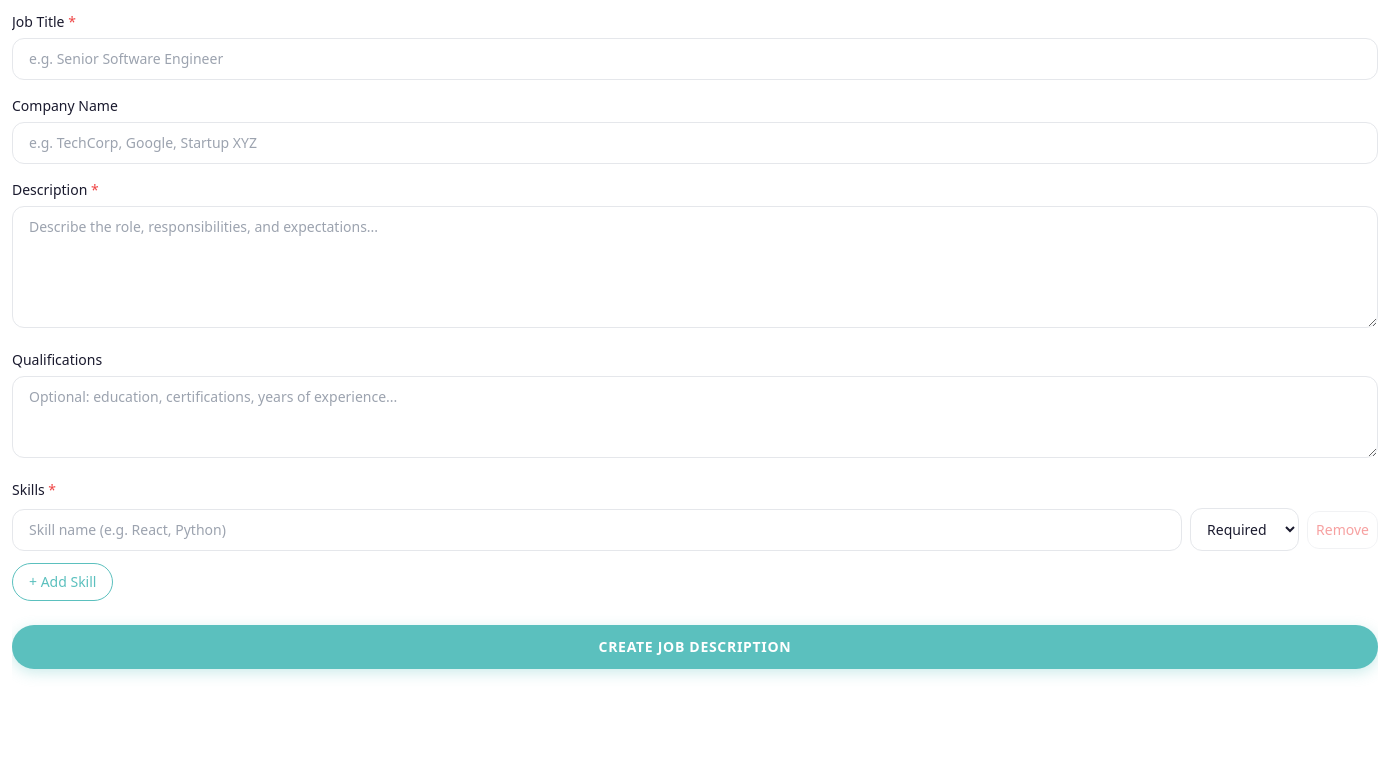
it: JobDescriptionForm › shows validation error when all skills are preferred (none required)
In the field labelled "Job Title *": (695, 59) top-left (12, 38), bottom-right (1378, 80), type "Software Engineer"
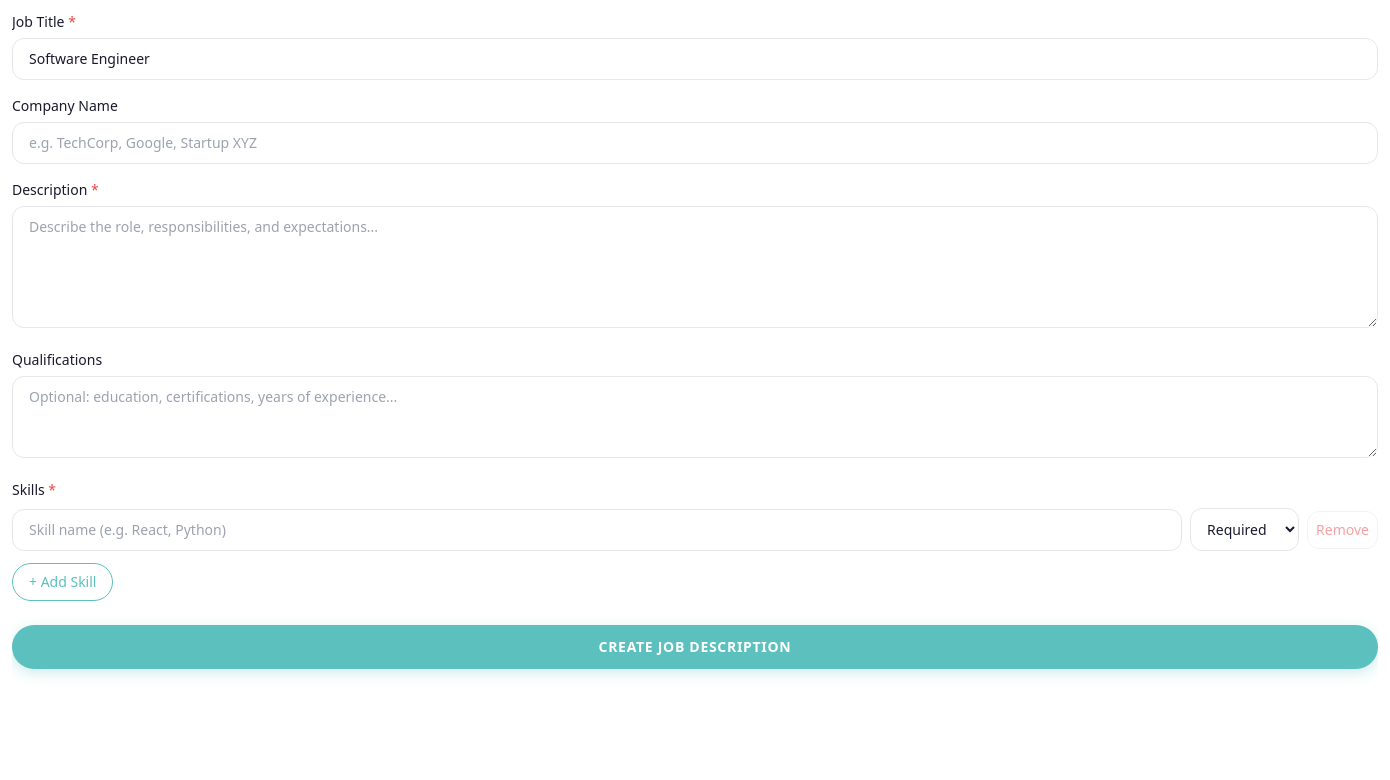
In the text box labelled "Description *": (695, 267) top-left (12, 206), bottom-right (1378, 328), type "Build things"
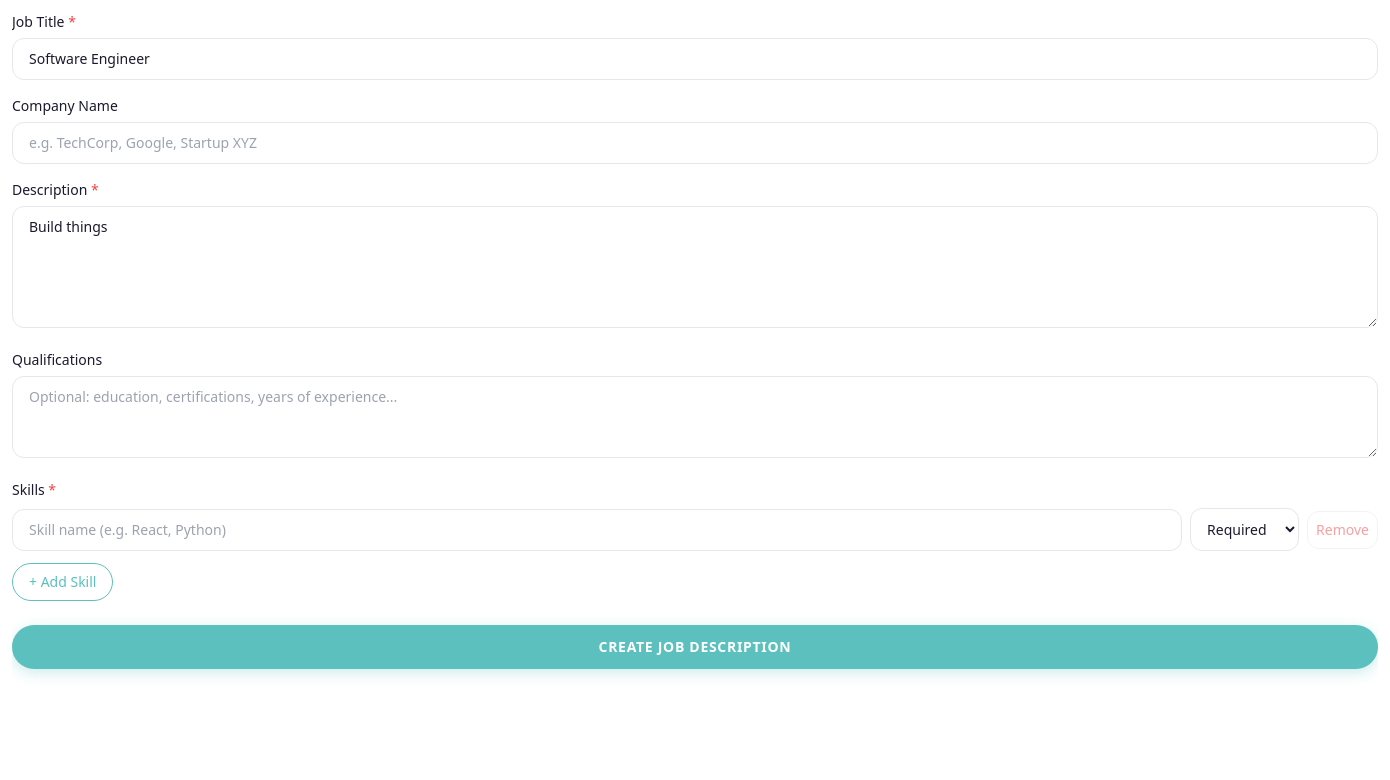
In the field named "Skill 1 name": (597, 530) top-left (12, 508), bottom-right (1182, 550), type "TypeScript"
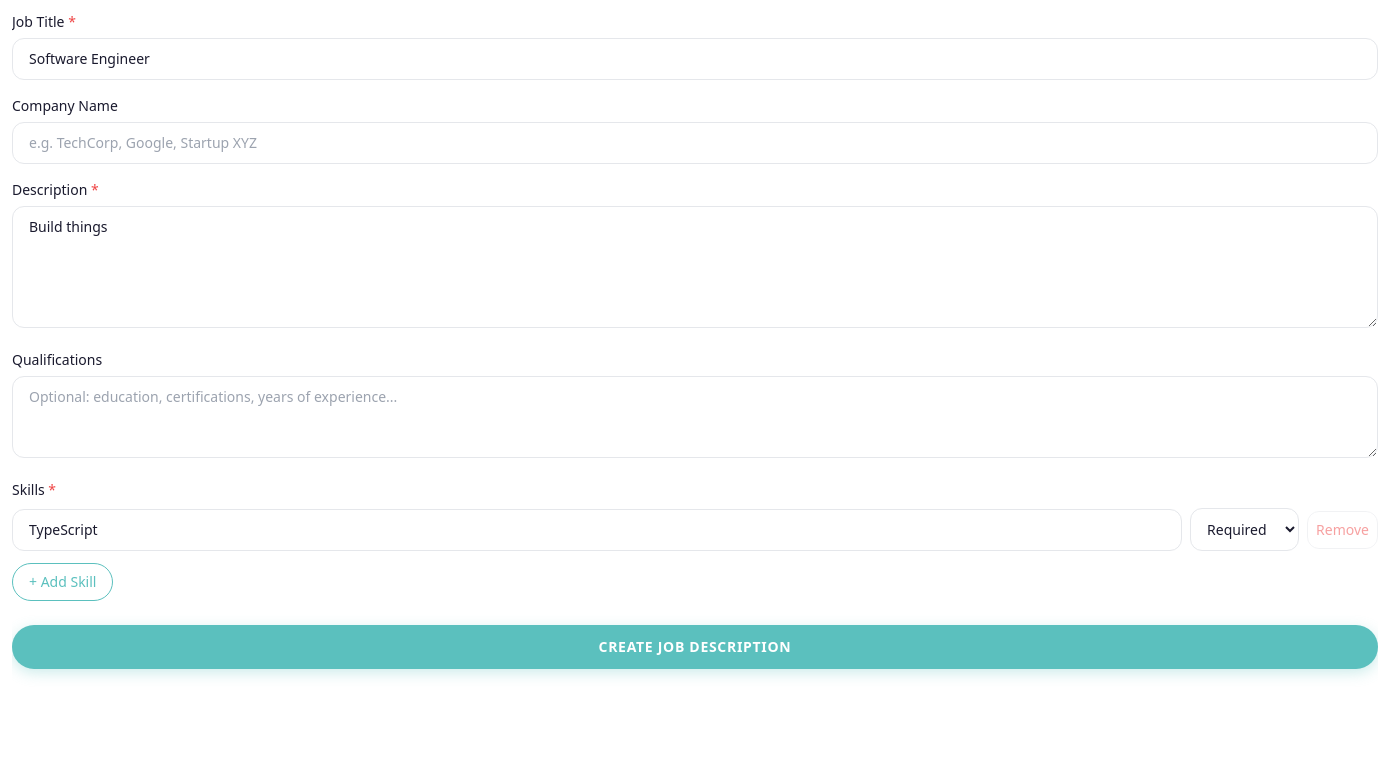
Select "Preferred" in the dropdown named "Skill 1 importance": (1245, 530) top-left (1190, 508), bottom-right (1299, 551)
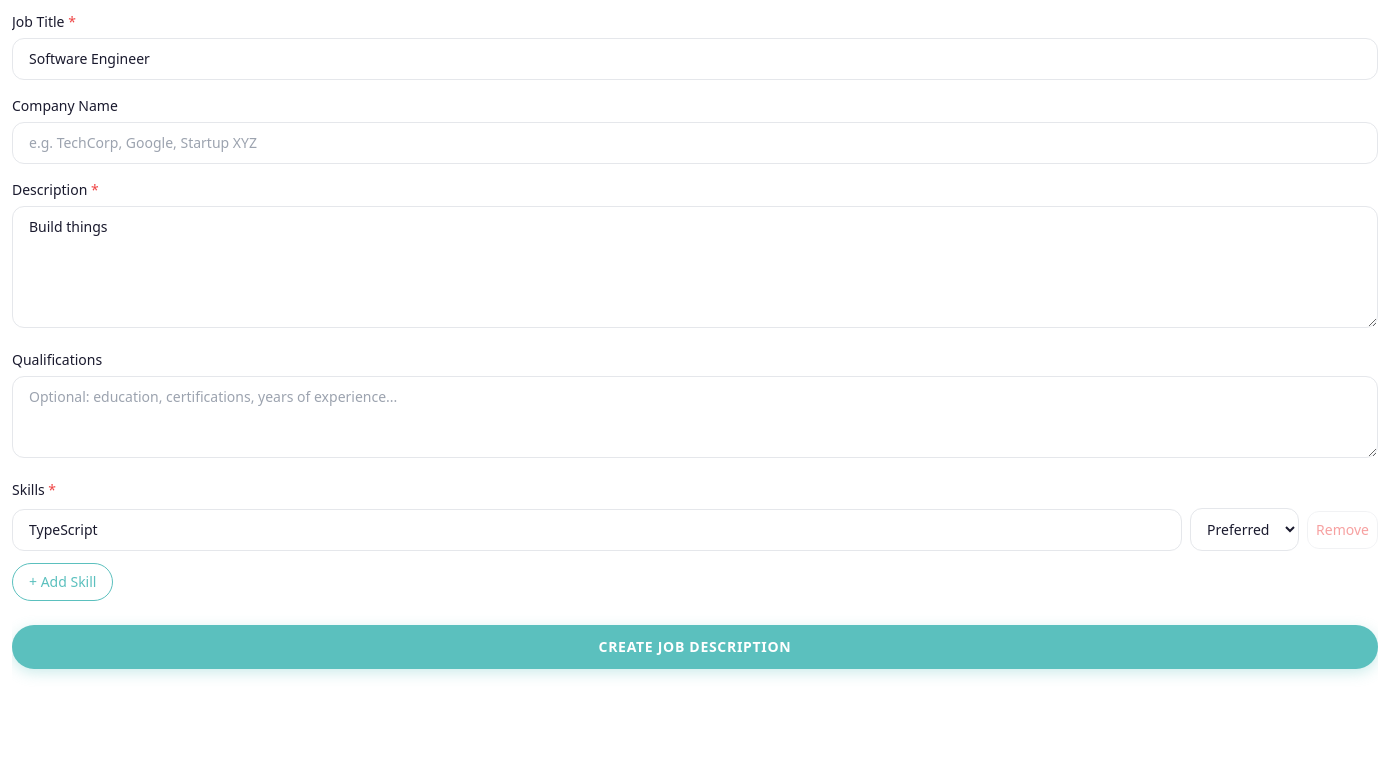
Click the button "Create Job Description": (695, 647) top-left (12, 625), bottom-right (1378, 669)
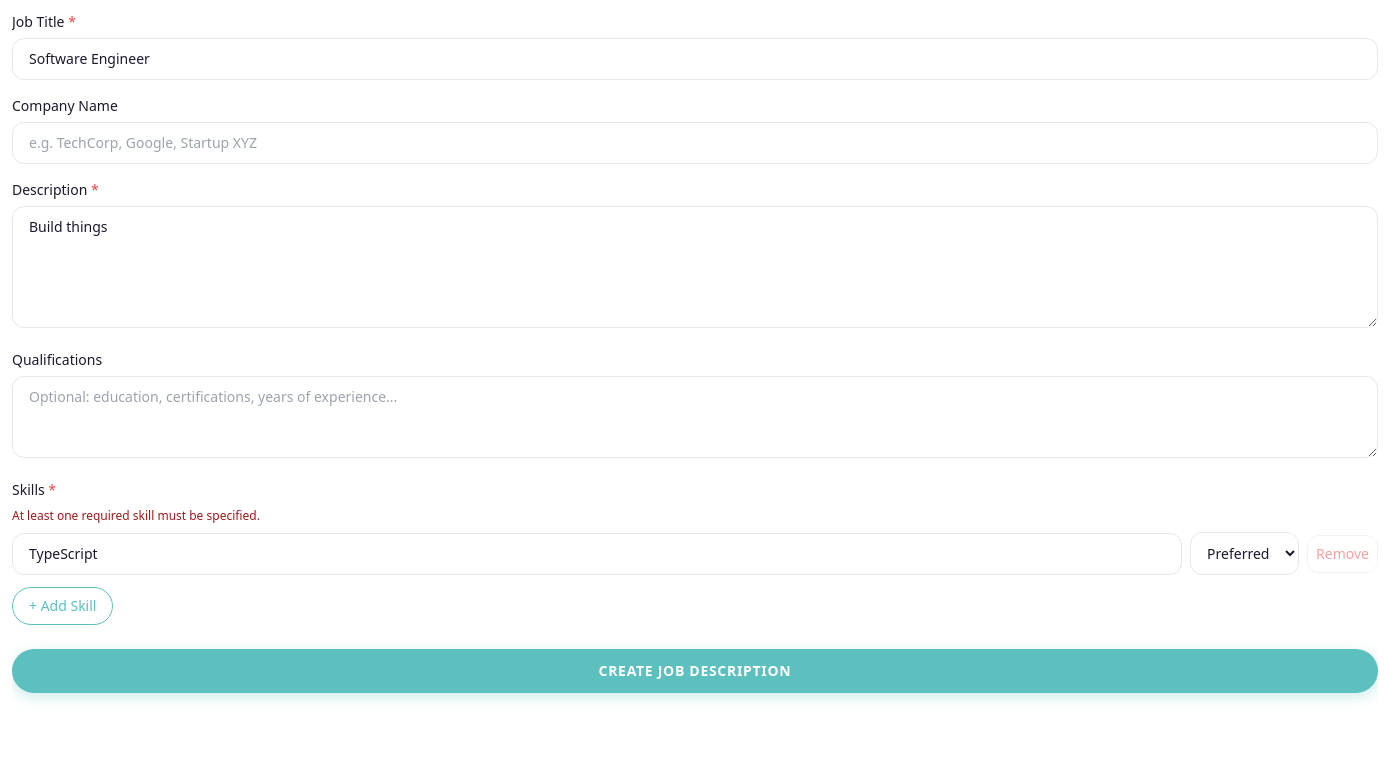
Now the text "At least one required skill must be specified." is shown, box top-left (12, 507), bottom-right (260, 524)
